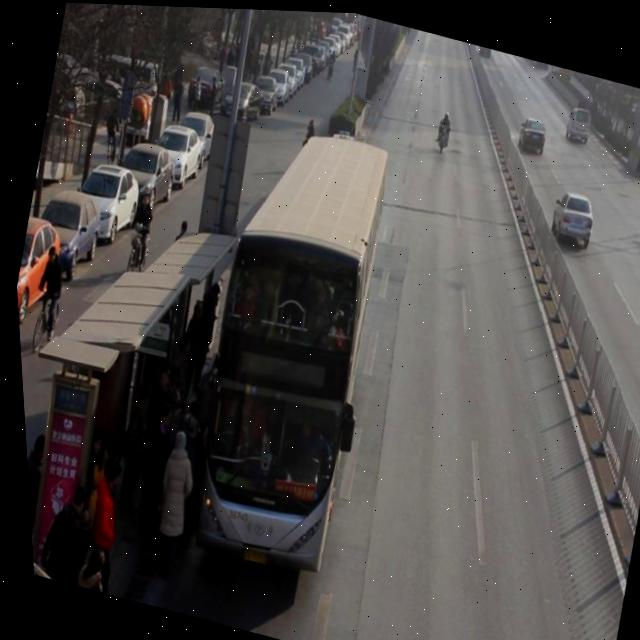car: (542, 183, 599, 246), (512, 109, 549, 153), (475, 43, 491, 54)
truck: (559, 99, 594, 143)
van: (152, 111, 410, 579)
